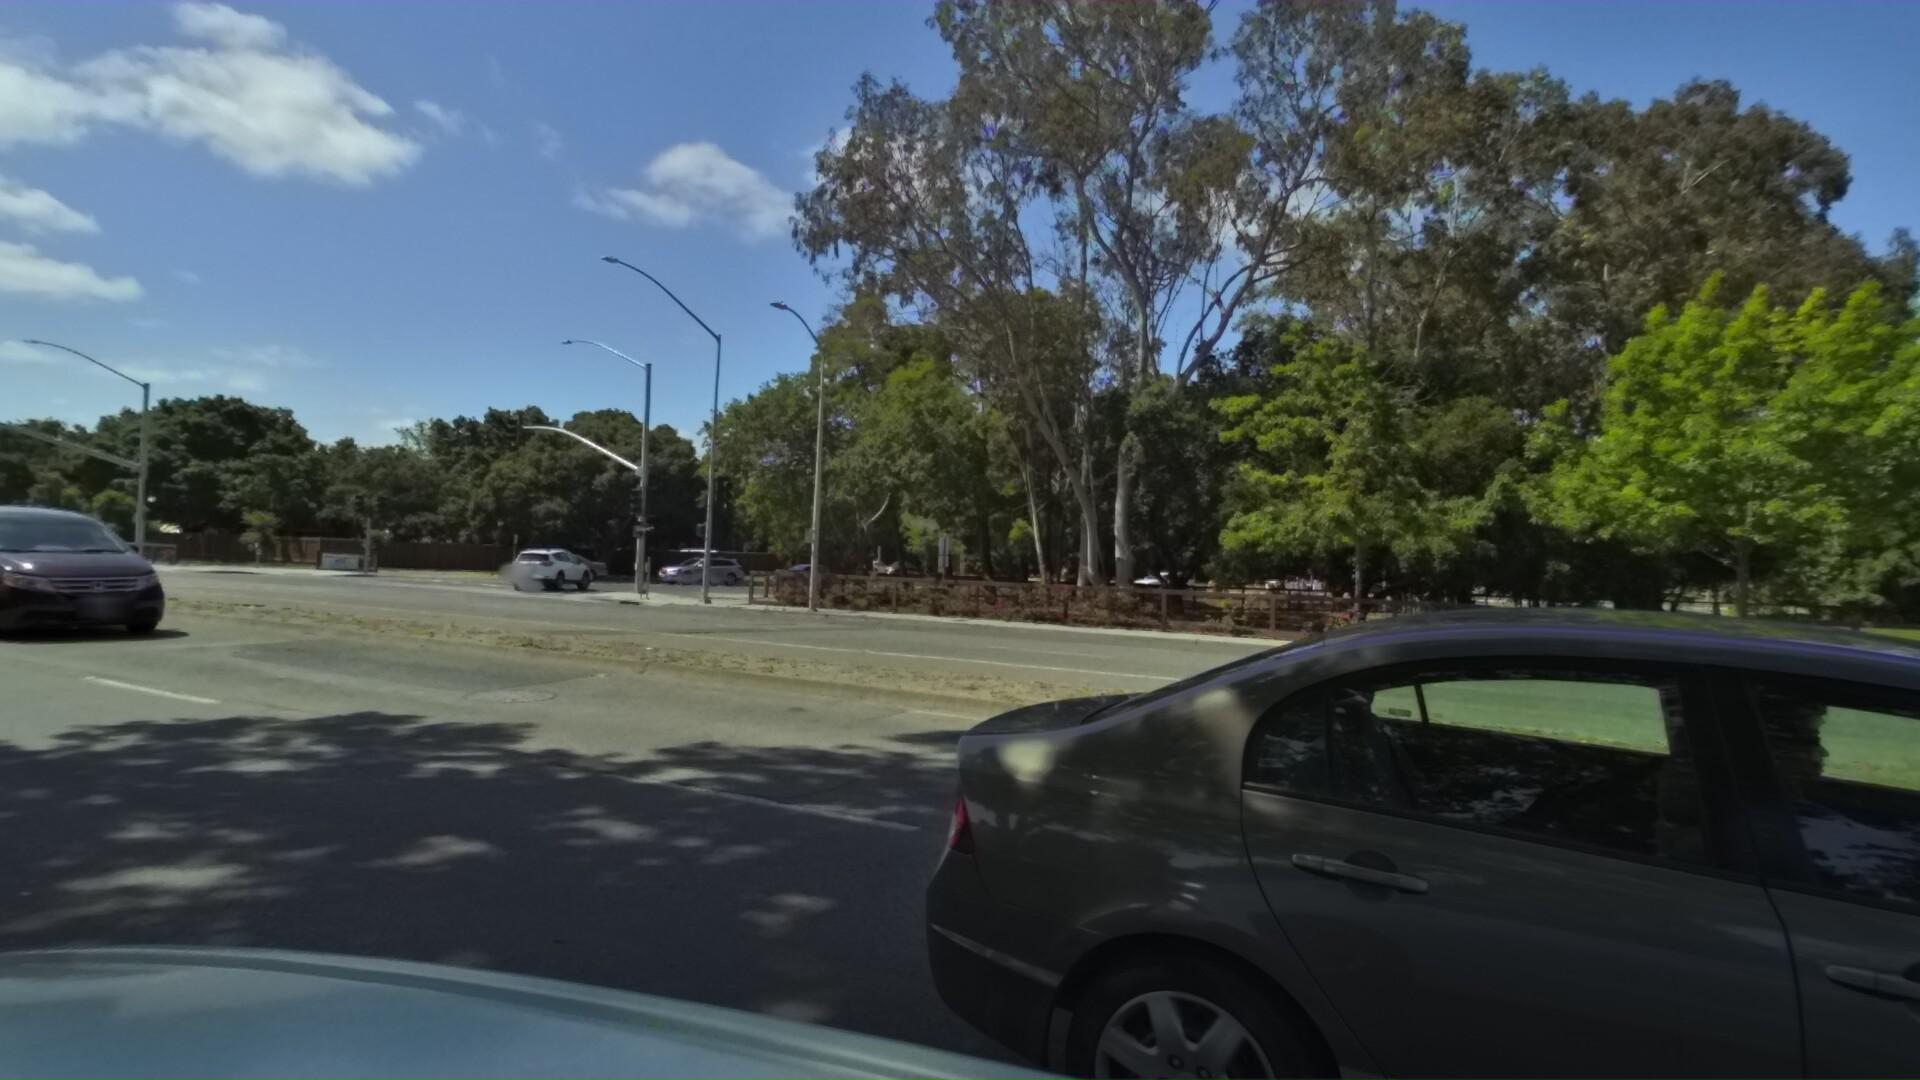car: (906, 564, 1920, 1080), (0, 495, 191, 647), (483, 549, 607, 587), (497, 547, 595, 593), (640, 553, 740, 591), (1907, 570, 1920, 856), (1120, 571, 1184, 596)
